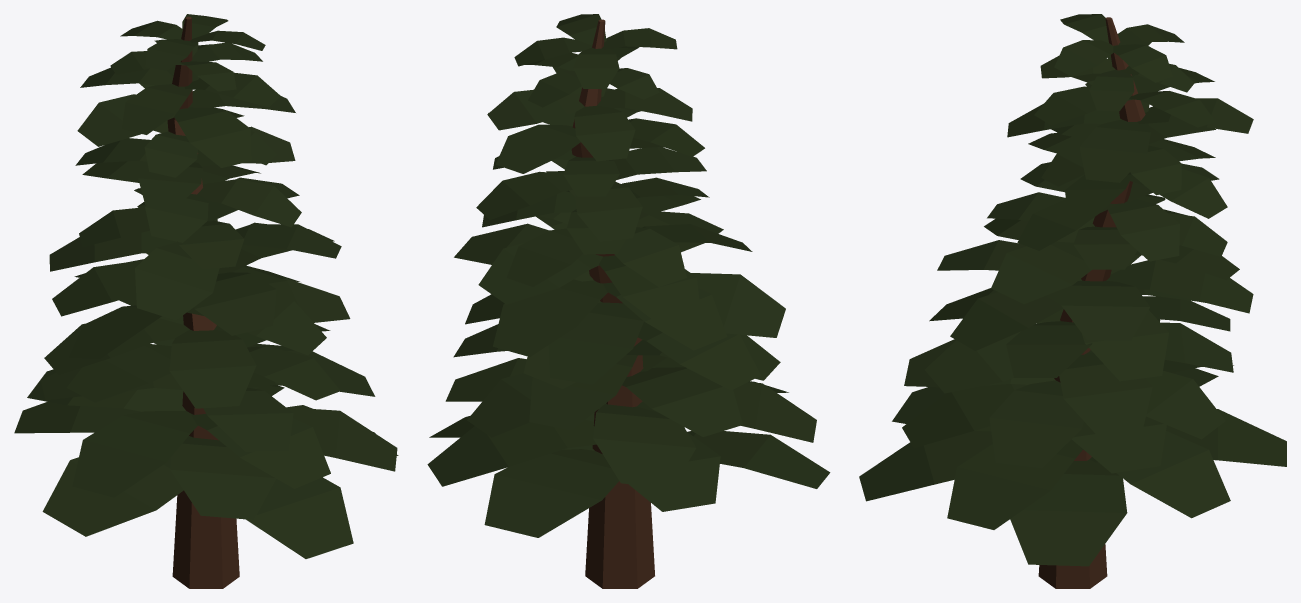
File: Oak Tree.fbx
3 renders of one model, left to right at view 1: azimuth 30°, elevation 25°; view 2: azimuth 150°, elevation 25°; view 3: azimuth 270°, elevation 25°, orthographic. The views are drawn at different scales.
Parts seen in each view (by area): view 1: Cylinder.007, Plane.011, Plane.005, Plane.003, Plane.022, Plane.001, Plane.034, Plane.010, Plane.013, Plane.028, Plane.016, Plane.007 (+38 smaller); view 2: Cylinder.007, Plane, Plane.009, Plane.006, Plane.012, Plane.026, Plane.031, Plane.001, Plane.018, Plane.024, Plane.035, Plane.023 (+35 smaller); view 3: Plane.002, Plane.007, Plane.015, Plane.019, Plane.006, Plane.003, Plane.029, Plane.032, Plane.010, Plane.031, Cylinder.007, Plane.025 (+40 smaller).
Boxes of the visible parts, x1,y1,x2,y2 form: Cylinder.007: (167, 16, 239, 588); Plane.011: (72, 411, 197, 497); Plane.005: (170, 436, 275, 519); Plane.003: (246, 477, 353, 558); Plane.022: (169, 329, 256, 408); Plane.001: (42, 457, 183, 536); Plane.034: (135, 242, 219, 320); Plane.010: (190, 413, 330, 488); Plane.013: (203, 388, 293, 451); Plane.028: (194, 272, 276, 335); Plane.016: (66, 344, 171, 402); Plane.007: (286, 407, 397, 471); Cylinder.007: (571, 19, 654, 588); Plane: (484, 449, 619, 537); Plane.009: (593, 404, 695, 487); Plane.006: (427, 419, 596, 486); Plane.012: (622, 367, 742, 436); Plane.026: (548, 302, 643, 384); Plane.031: (493, 279, 607, 356); Plane.001: (687, 431, 830, 488); Plane.018: (529, 355, 637, 430); Plane.024: (691, 273, 785, 337); Plane.035: (599, 255, 700, 327); Plane.023: (637, 321, 760, 390); Plane.002: (1010, 459, 1127, 566); Plane.007: (947, 439, 1082, 529); Plane.015: (989, 380, 1083, 468); Plane.019: (1059, 352, 1152, 436); Plane.006: (1080, 431, 1230, 518); Plane.003: (859, 431, 992, 501); Plane.029: (1061, 280, 1149, 340); Plane.032: (991, 241, 1091, 304); Plane.010: (902, 384, 1027, 447); Plane.031: (1106, 259, 1253, 313); Cylinder.007: (1038, 17, 1145, 588); Plane.025: (950, 289, 1063, 350).
Bounding box in the file's own units: 320 × 474 × 329.
